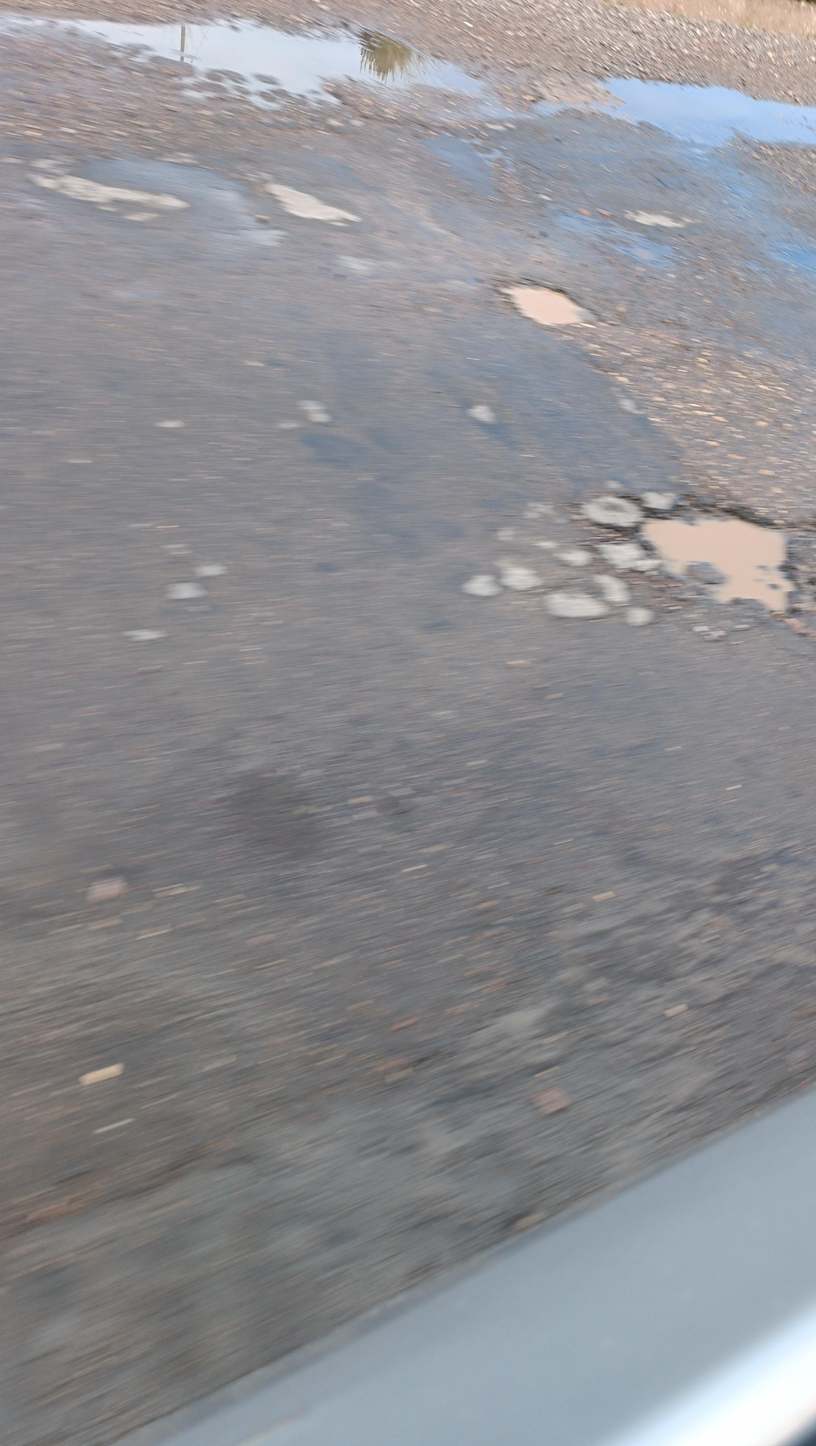BACHE: (104, 18, 499, 103), (584, 501, 809, 627), (598, 76, 813, 143), (495, 283, 603, 328), (270, 184, 359, 226), (544, 592, 609, 619), (500, 560, 542, 591), (594, 575, 630, 605), (556, 548, 592, 566)
PARCHE: (465, 337, 671, 483)
